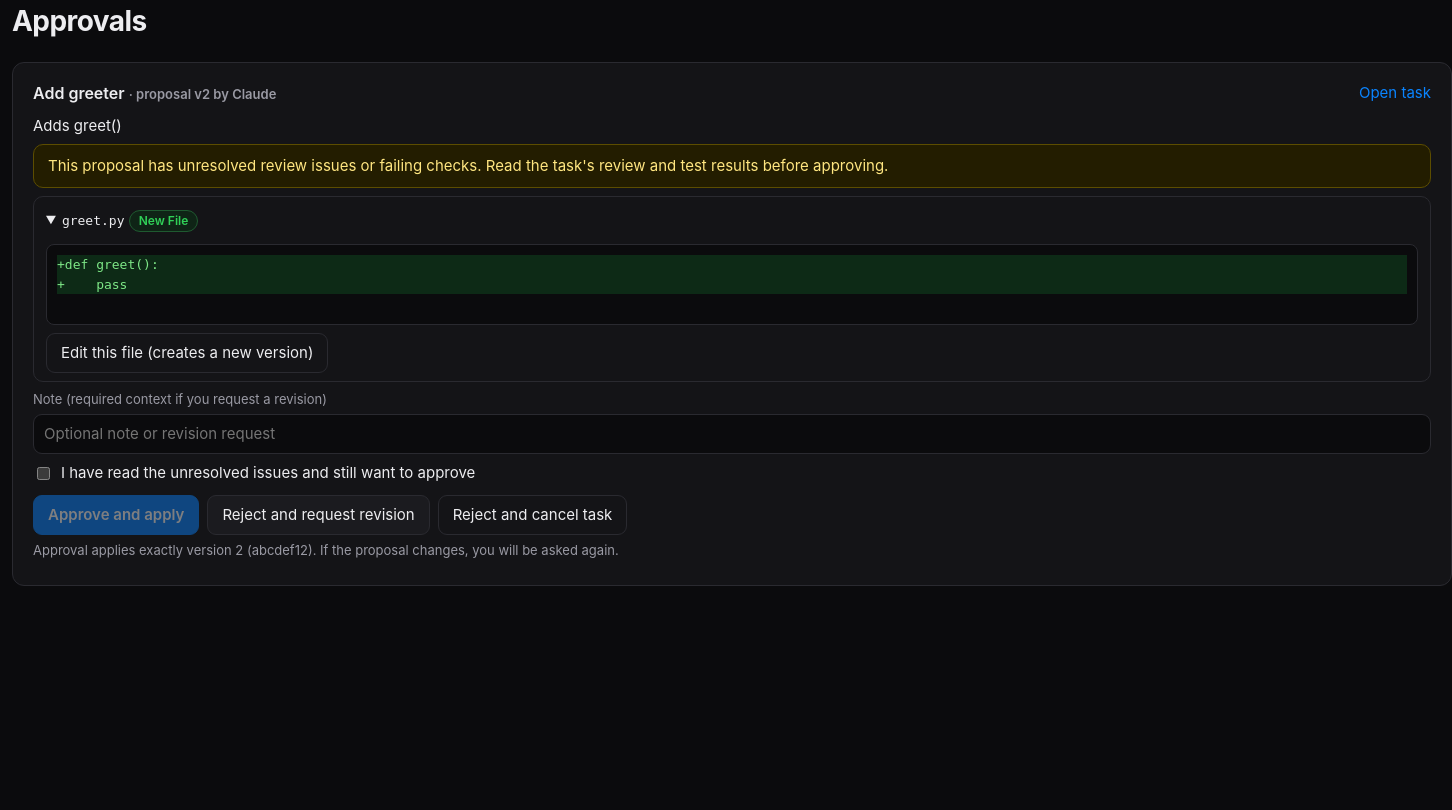
Test: Approvals › blocks approval of a proposal with unresolved issues until the user acknowledges them
Later steps or results of the test are not shown.
Expected: the text "unresolved review issues" is shown, [48,156,888,174]
Expected: the button "Approve and apply" is disabled, [33,494,199,535]
Click the checkbox at point(44, 473), box [37,467,50,480]
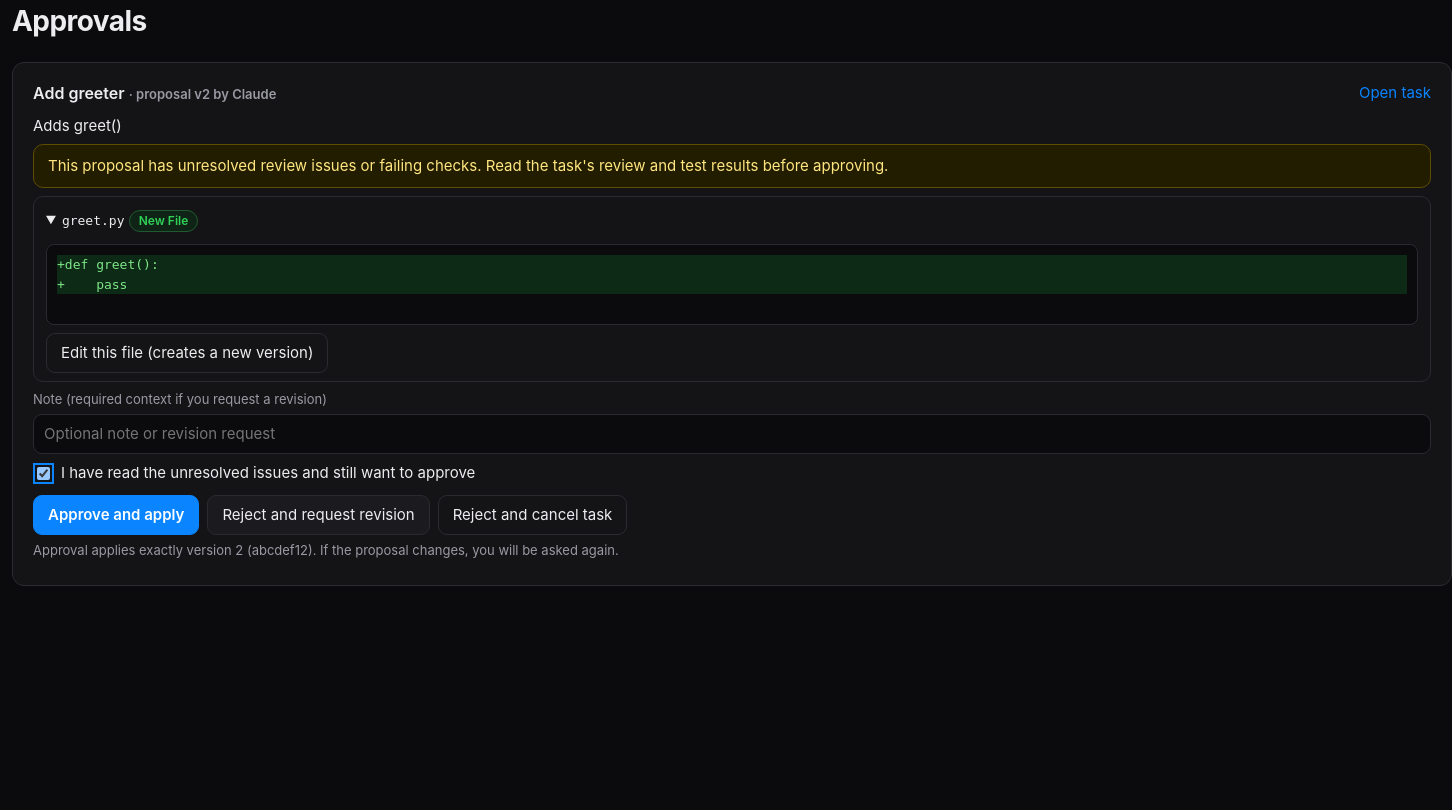
Expected: the button "Approve and apply" is enabled, [33,494,199,535]
